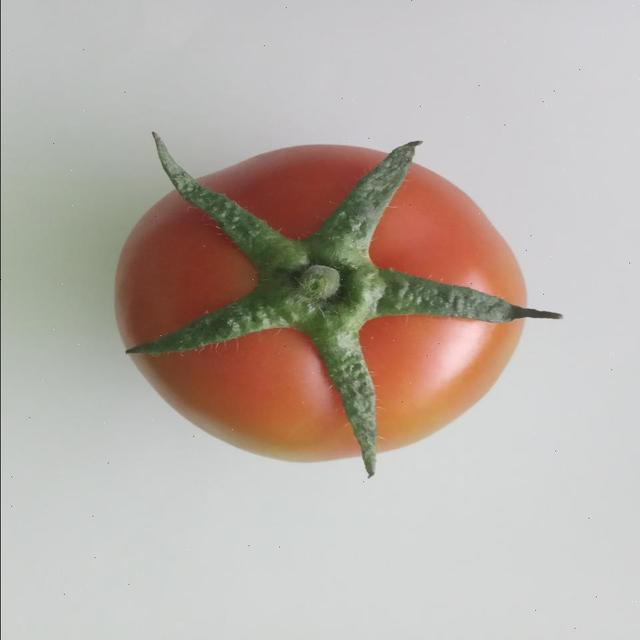Healthy Fruit: (71, 86, 378, 316)
